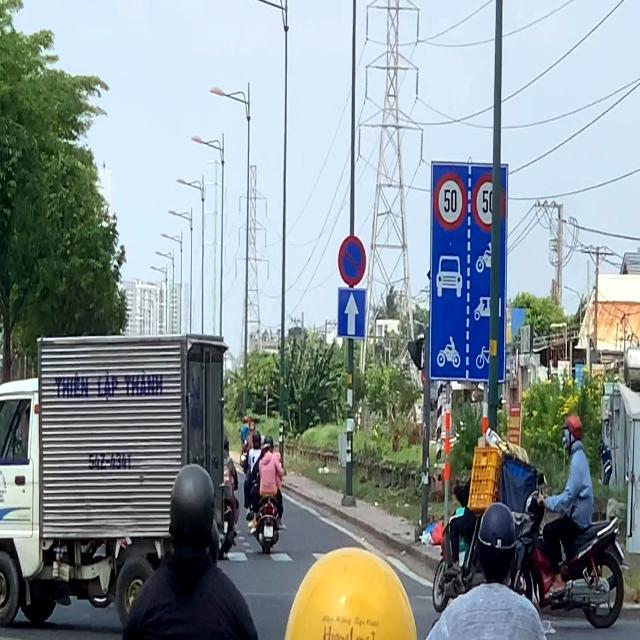Cam do xe: (338, 235, 366, 286)
Duong mot chieu: (338, 286, 366, 340)
Toc do toi da cho phep: (434, 172, 467, 232), (472, 174, 505, 233)
